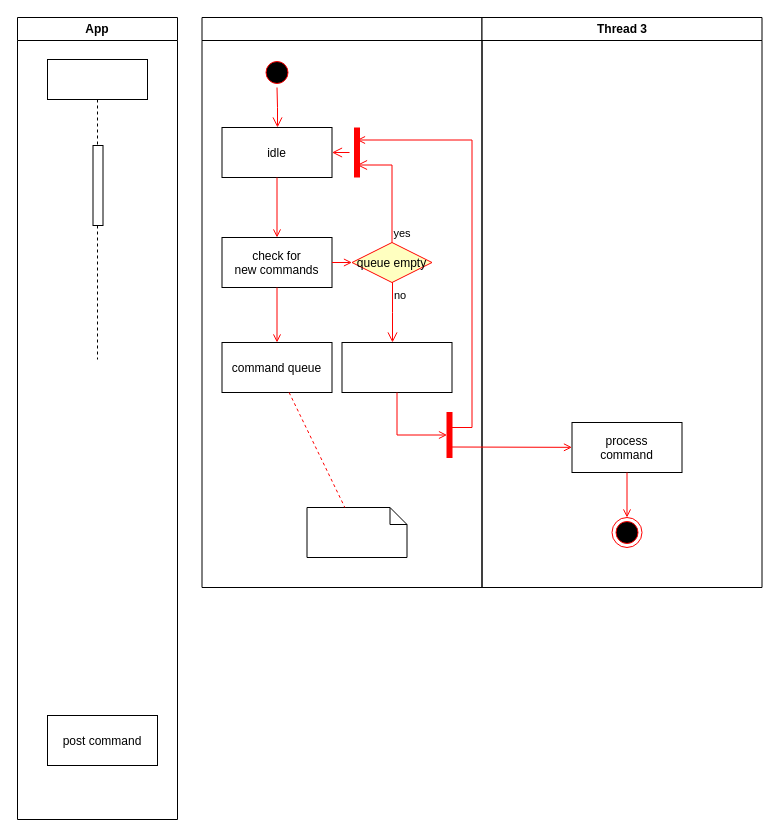
Some shapes in this 780 by 837 pixel diagram are drawn without their labels. The shapes that lost their labels are listed below. From the top down, each one's box as (x1, y1, x2, y2) in pixels, then its label:
(46, 58, 148, 360): :Object
(201, 16, 482, 588): Thread 2
(341, 342, 452, 392): dispatch command worker thread
(306, 506, 407, 558): critical section
